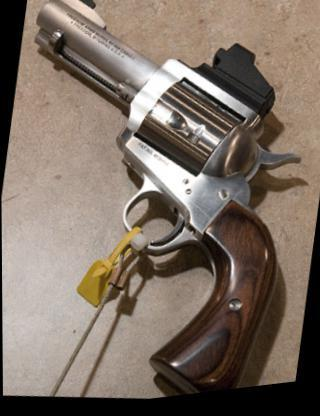pistol: (0, 0, 318, 415)
